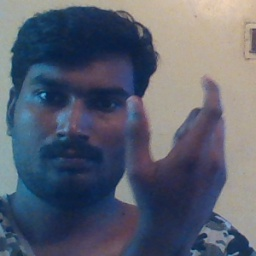U: (121, 72, 236, 205)
